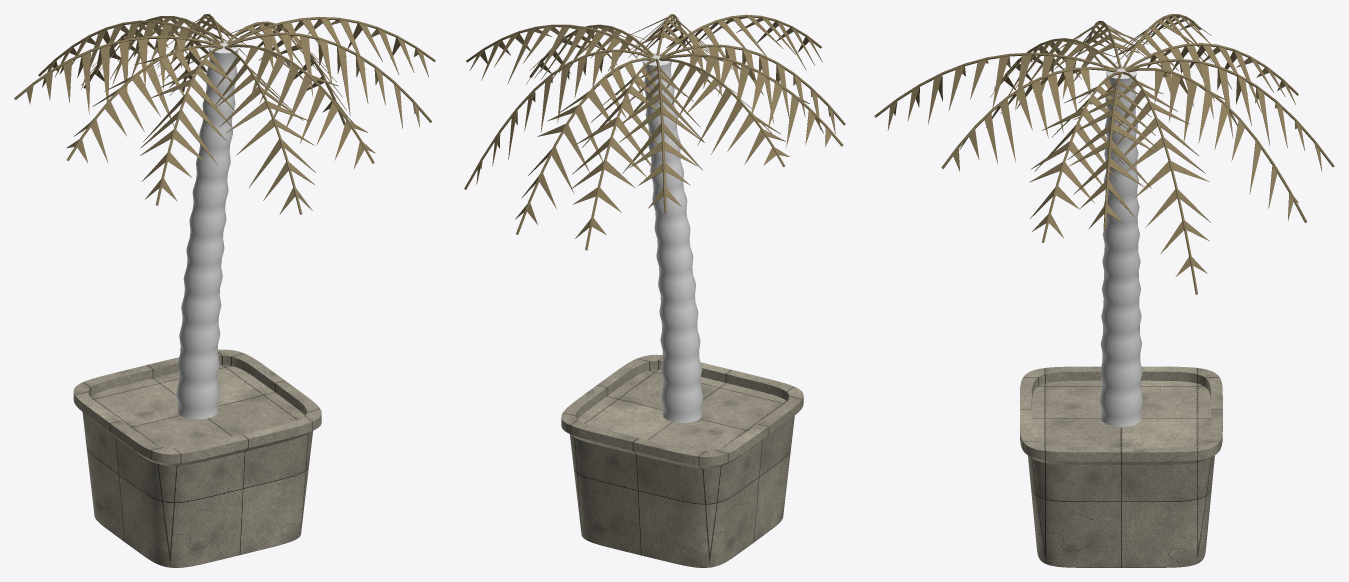
Rendered from PlanterDeadPalm.fbx.
3 views of the same model, side by side, from view 1: azimuth 30°, elevation 25°; view 2: azimuth 150°, elevation 25°; view 3: azimuth 270°, elevation 25° (orthographic). The views are drawn at different scales.
Visible parts, largest first — view 1: PlanterDeadPalm; view 2: PlanterDeadPalm; view 3: PlanterDeadPalm.
Part boxes in pixels (x1,y1,x2,y2): PlanterDeadPalm: (14,14,435,567); PlanterDeadPalm: (464,14,845,567); PlanterDeadPalm: (874,14,1334,567).
Size of the model in its own units: 2.58 by 3.18 by 2.72.
